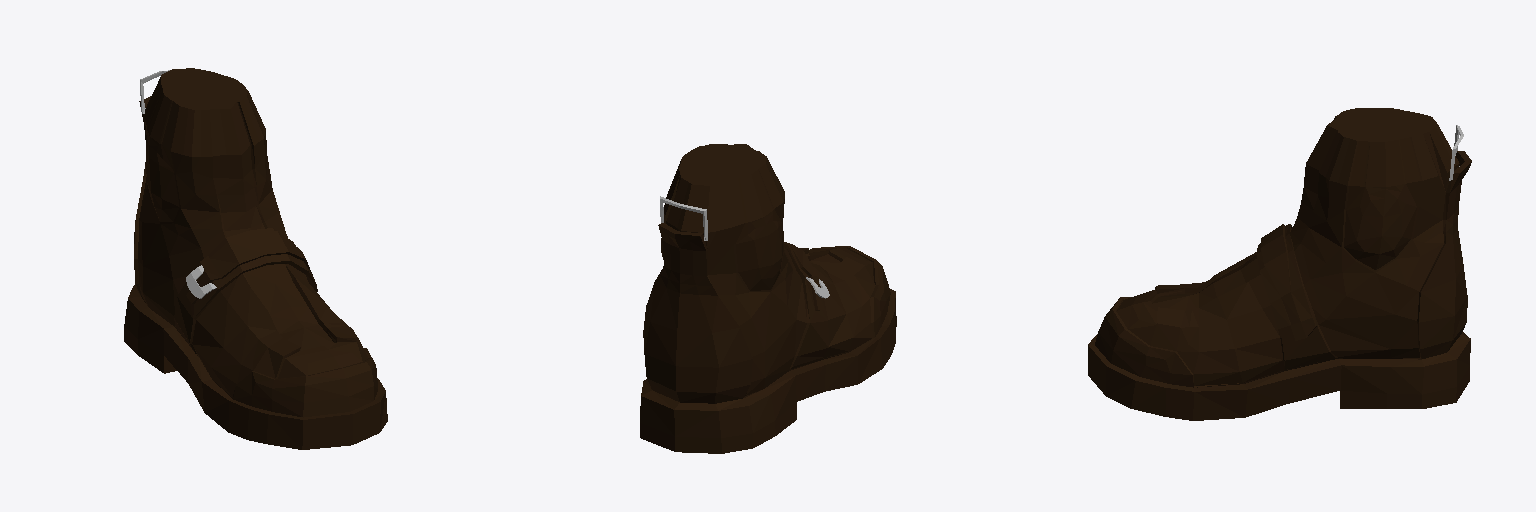
The model's file is leftshoe.obj.
The picture shows the model from 3 angles: view 1: azimuth 30°, elevation 25°; view 2: azimuth 150°, elevation 25°; view 3: azimuth 270°, elevation 25°; orthographic projection.
Parts seen in each view (by area): view 1: Mesh1 Model; view 2: Mesh1 Model; view 3: Mesh1 Model.
Part boxes in pixels (x1,y1,x2,y2): Mesh1 Model: (124, 68, 387, 449); Mesh1 Model: (640, 144, 896, 453); Mesh1 Model: (1088, 108, 1471, 420).
Size of the model in its own units: 4.88 by 8.41 by 11.26.